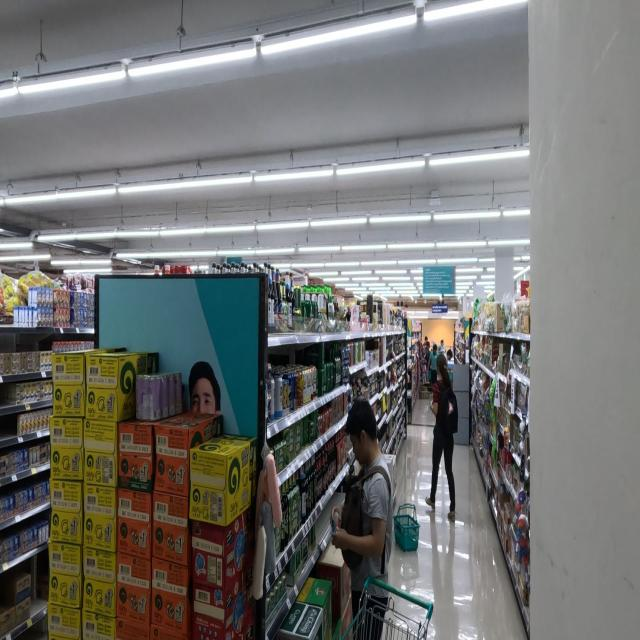shoplifting: (326, 394, 392, 640)
